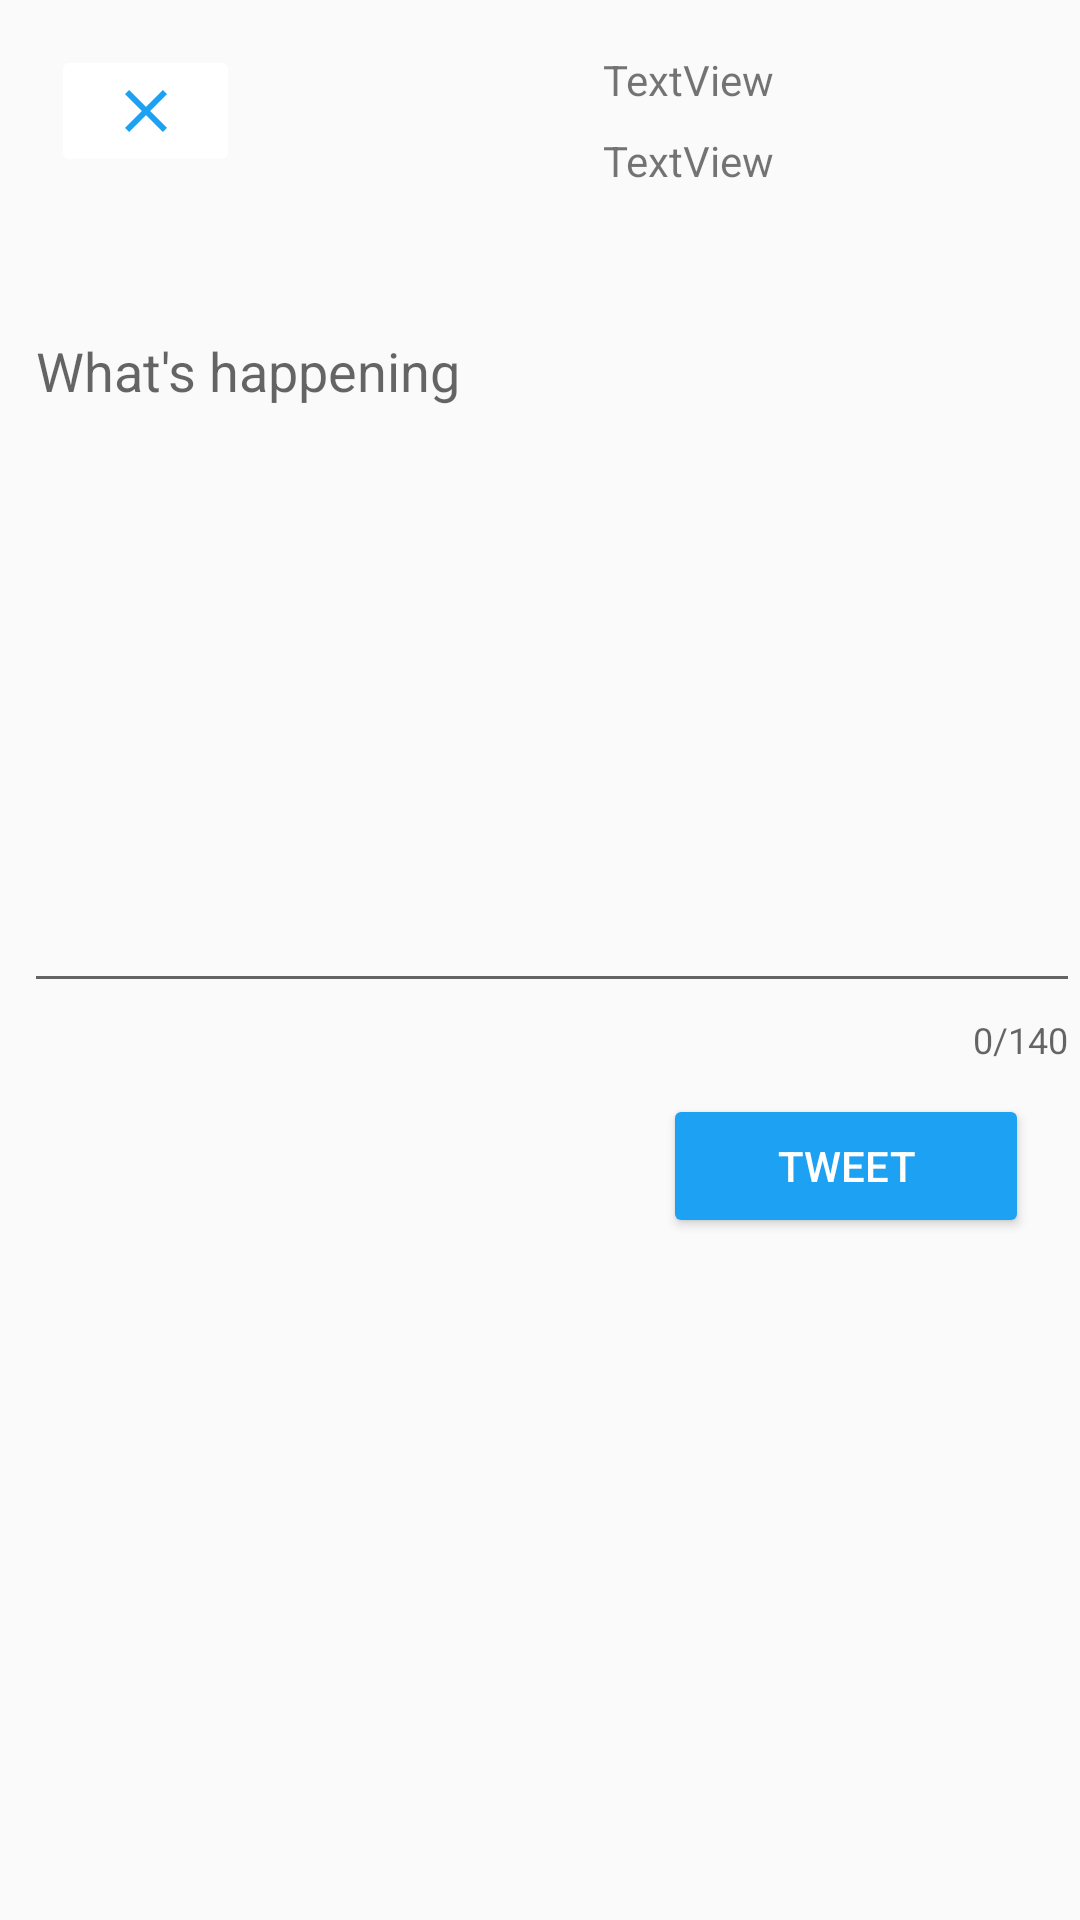

Locate icon controls on the screen. Image size 1080 x 1920, boxes as (x1, y1, x2, y2).
cancel: (125, 90, 167, 132)
